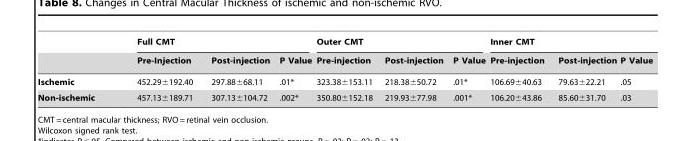table: (37, 37, 652, 101)
table column: (115, 37, 201, 101), (37, 37, 115, 101), (201, 37, 274, 101), (377, 37, 447, 101), (550, 37, 617, 101), (313, 37, 377, 101), (487, 37, 550, 101), (447, 37, 487, 101), (274, 37, 313, 101), (617, 37, 652, 101)
table column header: (37, 37, 652, 70)
table row: (37, 50, 652, 70), (37, 70, 652, 89), (37, 37, 652, 50), (37, 89, 652, 101)
table spanning cell: (115, 37, 313, 50), (313, 37, 487, 50), (487, 37, 652, 50)
